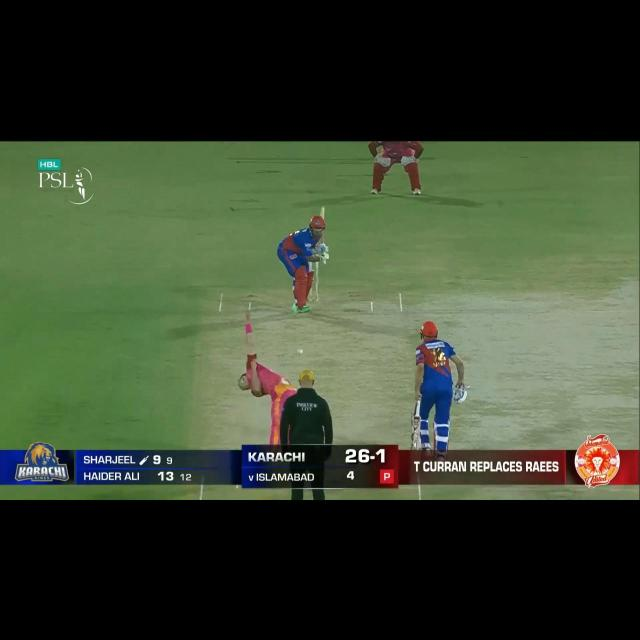bat: (409, 416, 422, 450), (316, 202, 326, 246)
toe: (320, 203, 326, 216)
